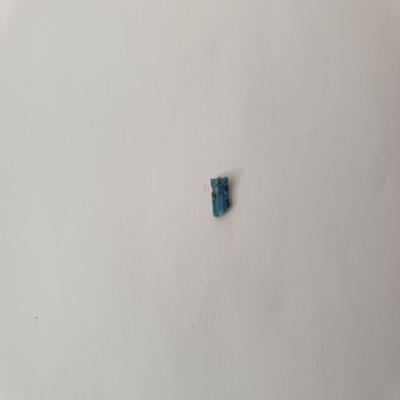plastic: (207, 173, 234, 219)
